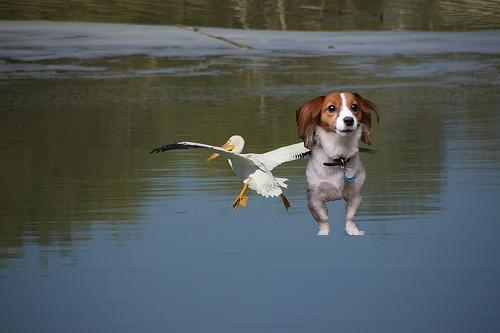tampered: (297, 93, 379, 235)
